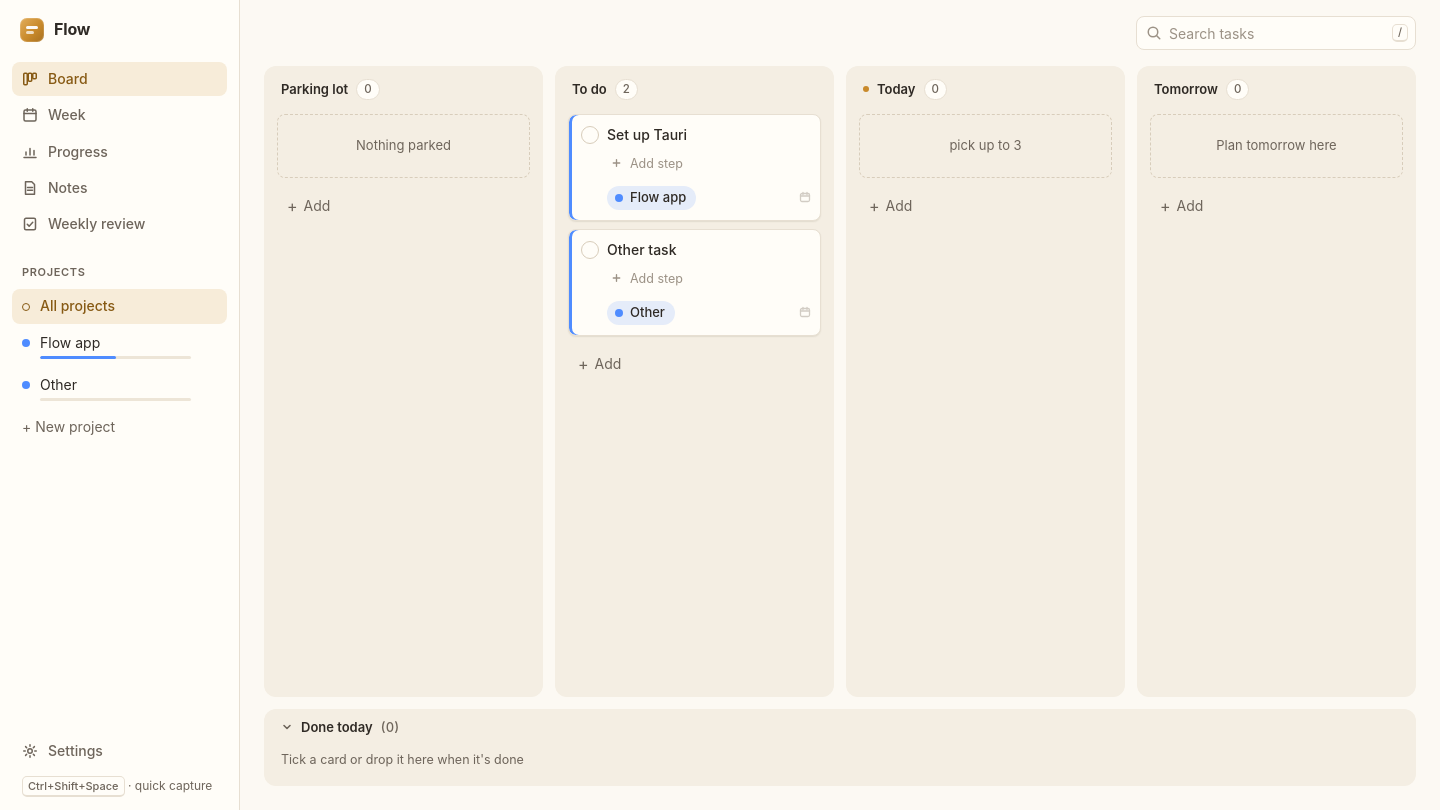
Test: Project header › reflects external body changes only while the textarea is not being edited
The image size is (1440, 810).
Check: the button "Set up Tauri" is shown, box [607,125,810,144]
Click the button "Flow app": (120, 346) [12,326,227,366]
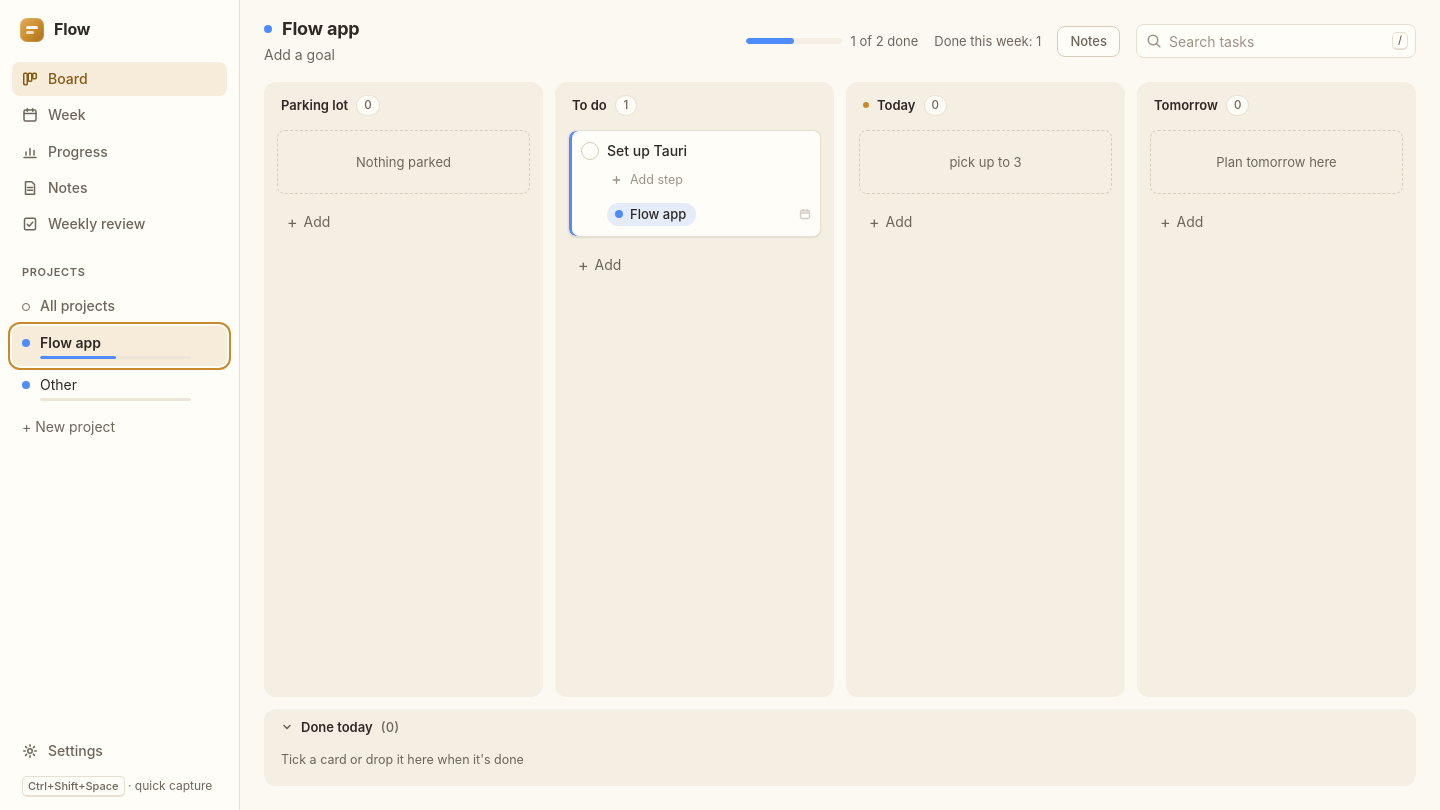
Click the button "Notes" in the row of "Done this week:": (1089, 41) [1057,26,1120,57]
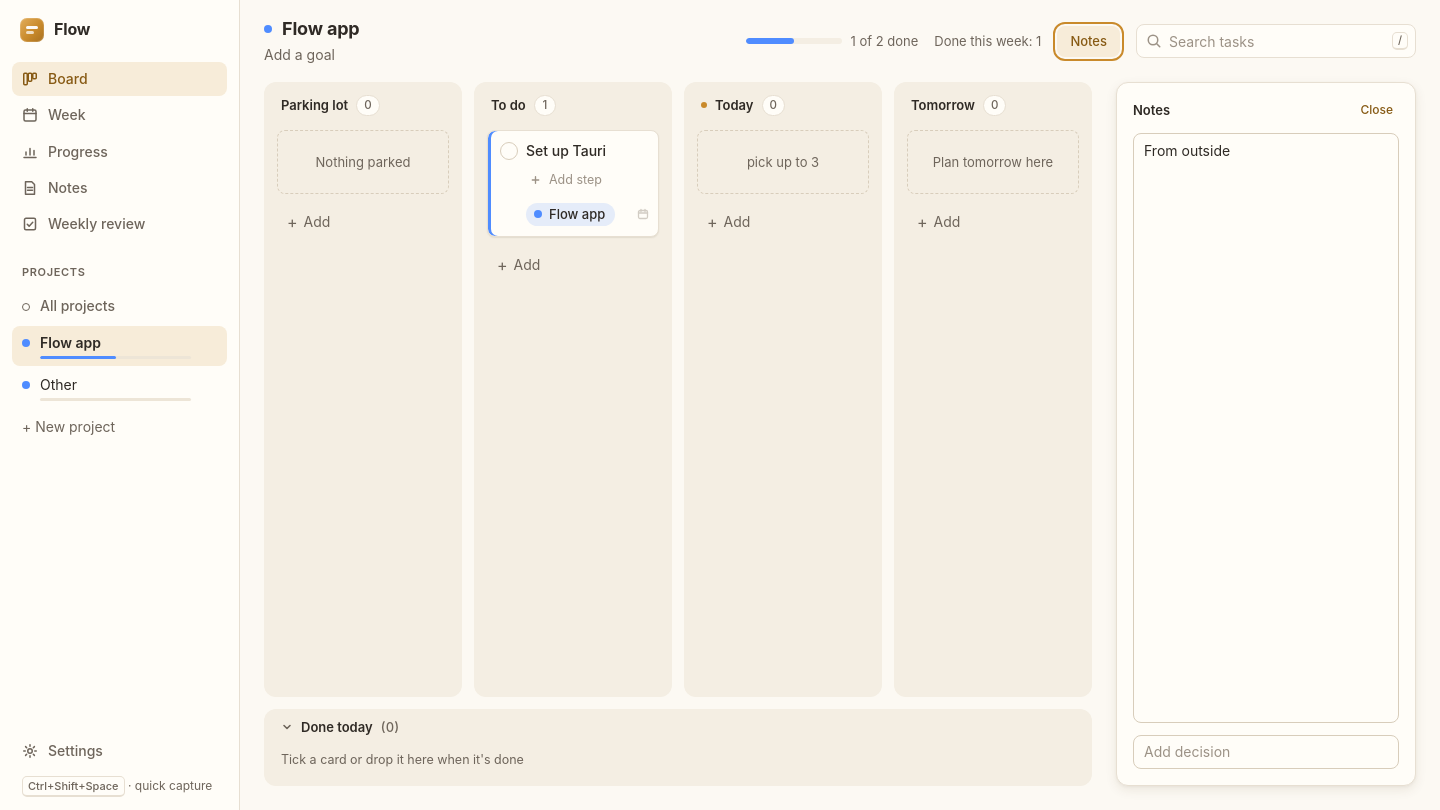
Check: the text box named "Project notes" holds "From outside"
In the text box named "Project notes": (1266, 428) [1133,133,1399,723], type " typing"
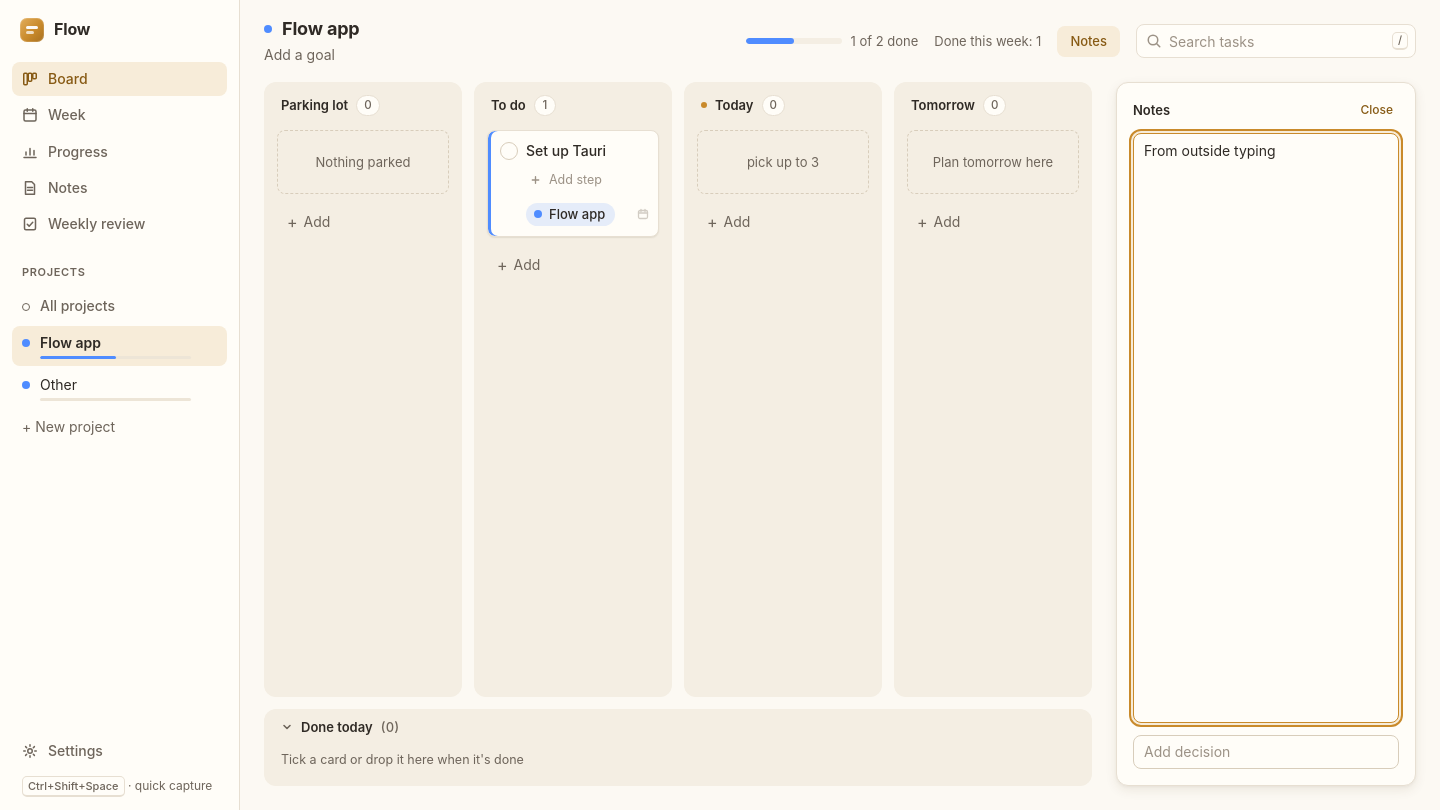
Check: the text box named "Project notes" holds "From outside typing", box [1133,133,1399,723]
